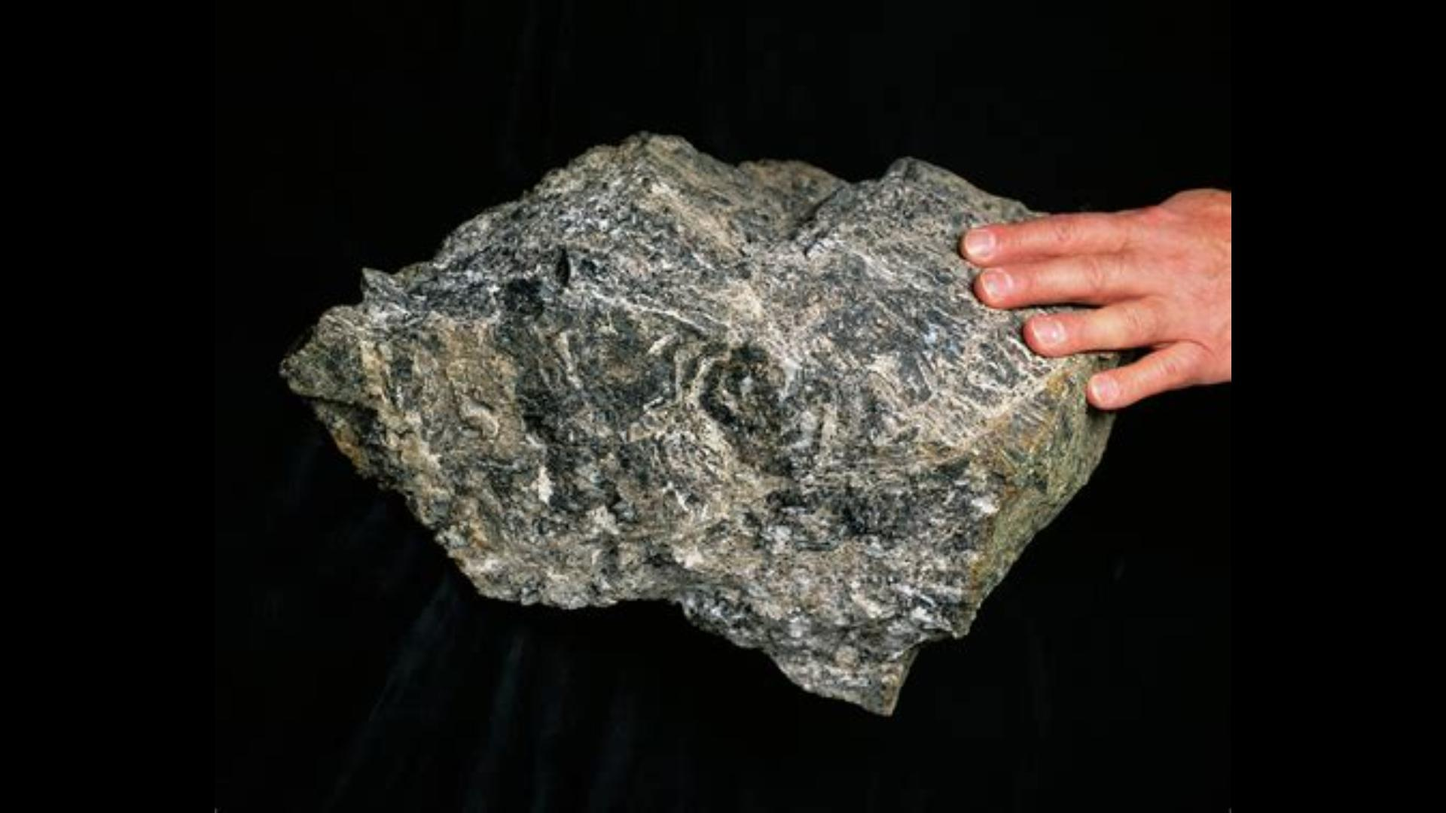rock: (288, 135, 1114, 710)
